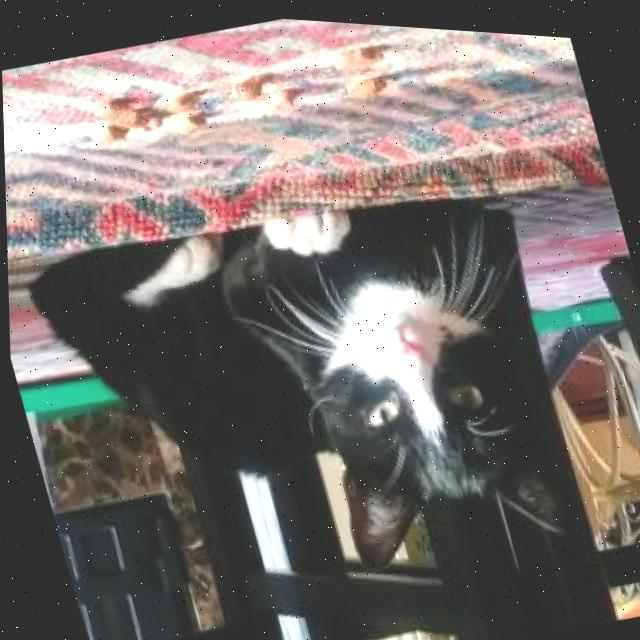Tuxedo: (15, 146, 576, 640)
